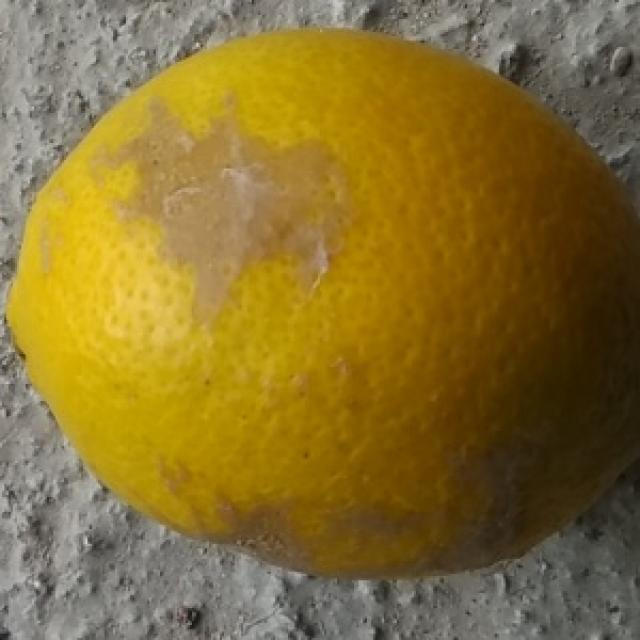overripe: (9, 18, 640, 583)
